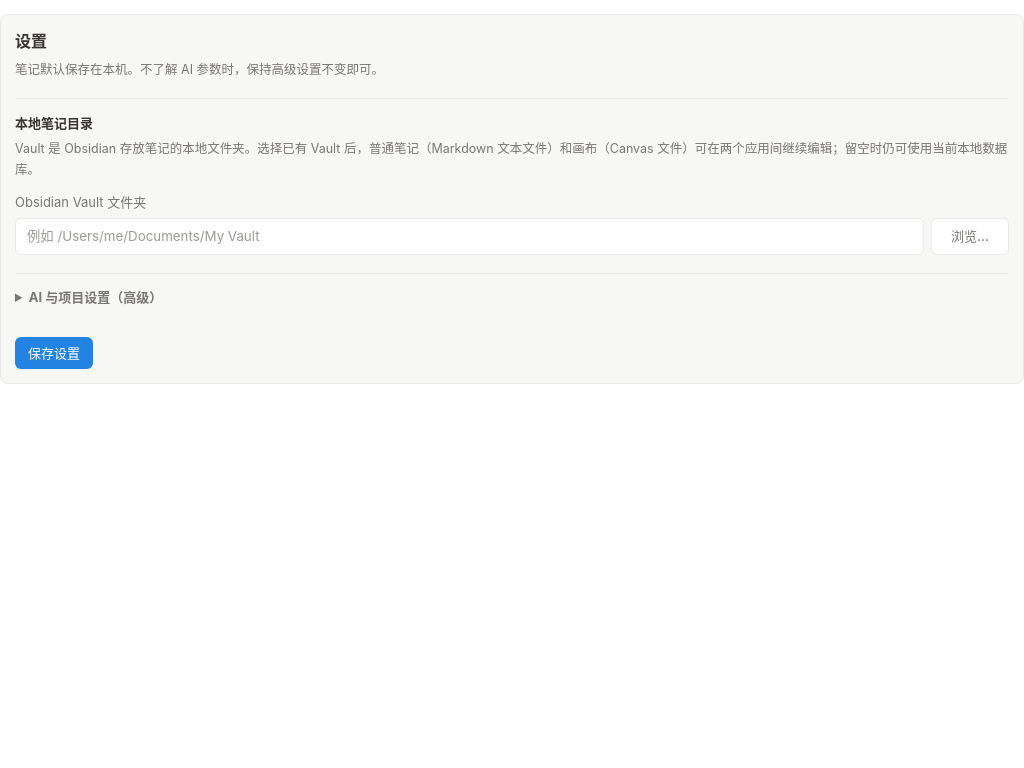
Test: SettingsPanel provider configuration › shows settings, environment and default source badges without key previews
Expected: the element named "模型名称" is shown, [15, 273, 1009, 321]
What coordinates should you click on to do the following:
click the heading "AI 与项目设置（高级）"
I would click on:
 (96, 297)
Its box is [29, 289, 162, 305].
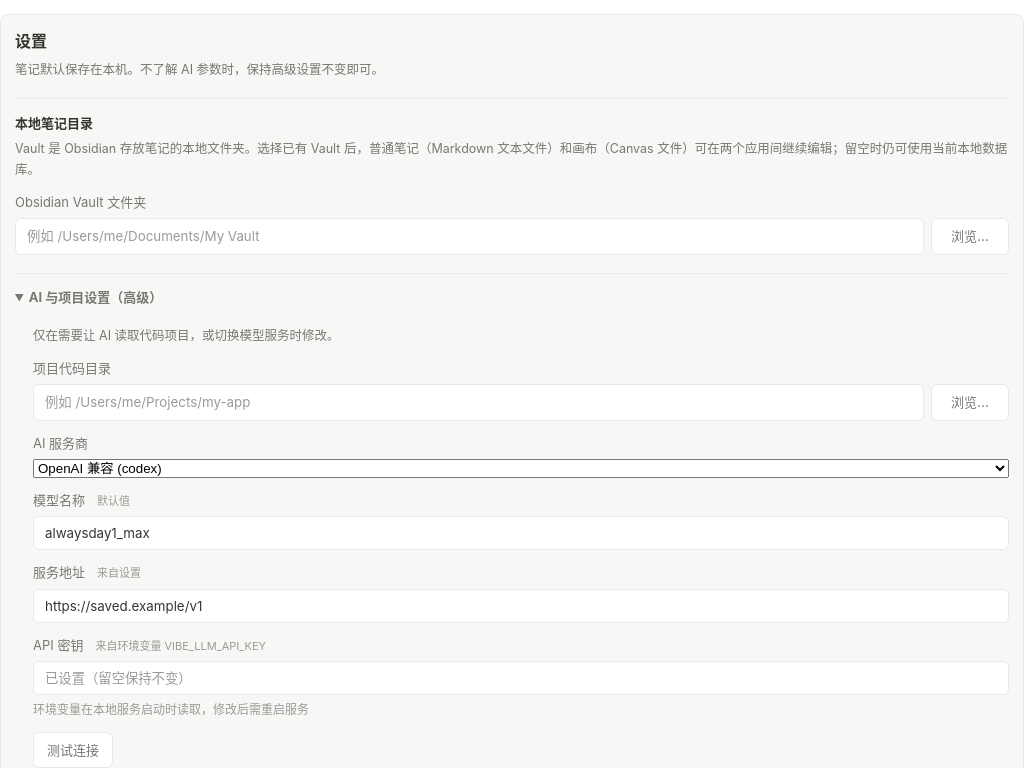
Expected: the text "来自设置" is shown, [91, 564, 147, 584]
Expected: the text "来自环境变量 VIBE_LLM_API_KEY" is shown, [89, 637, 272, 656]
Expected: the text "默认值" is shown, [91, 492, 136, 511]
